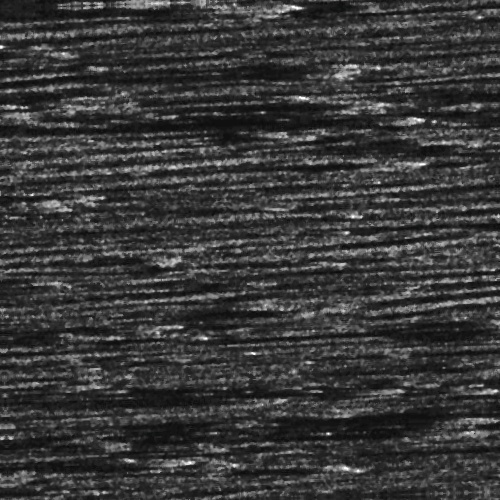object: (61, 447, 280, 466), (200, 0, 335, 15), (139, 234, 180, 271), (323, 97, 396, 110), (405, 431, 500, 440), (42, 373, 135, 382), (437, 419, 500, 432), (117, 315, 190, 326), (307, 68, 370, 79), (345, 119, 428, 126), (290, 466, 353, 475), (20, 40, 93, 47), (0, 90, 39, 101), (323, 388, 396, 393), (469, 322, 500, 329), (366, 163, 407, 168), (0, 462, 27, 469), (481, 336, 500, 345), (25, 111, 56, 116), (0, 395, 17, 400), (491, 370, 500, 375)
shadow: (27, 234, 159, 271), (0, 97, 359, 110), (188, 412, 500, 425), (0, 0, 268, 15), (168, 419, 473, 432), (0, 68, 338, 79), (0, 447, 171, 466), (0, 119, 387, 126), (225, 336, 500, 345), (214, 431, 457, 440), (0, 388, 359, 393), (18, 315, 153, 326), (364, 225, 500, 234), (195, 466, 321, 475), (212, 163, 386, 168), (373, 322, 495, 329), (411, 449, 500, 458), (0, 373, 88, 382), (344, 370, 500, 375), (113, 64, 339, 67), (409, 115, 500, 120), (0, 40, 57, 47), (0, 111, 41, 116)
